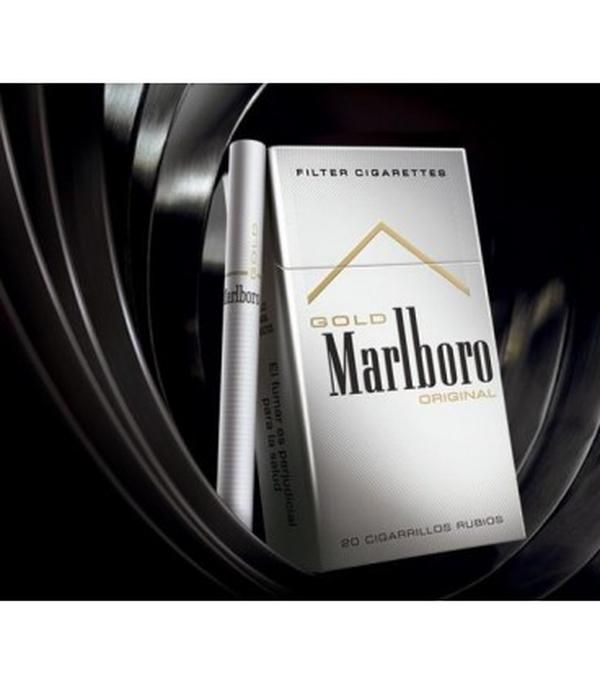marlboro_gold: (291, 148, 495, 544)
